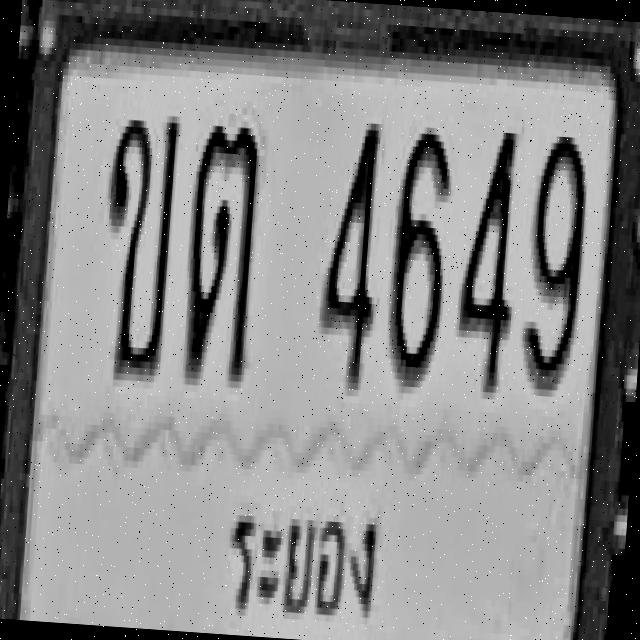11KhorKhai: (95, 106, 180, 376)
30TorTao: (181, 114, 262, 378)
4: (316, 110, 386, 387), (452, 120, 522, 390)
6: (383, 122, 452, 384)
9: (520, 125, 589, 388)
Rayong: (214, 479, 386, 640)
